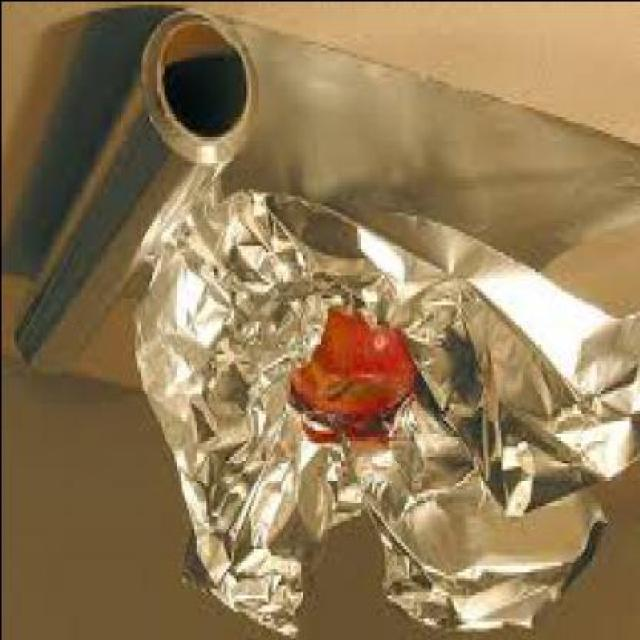BIODEGRADABLE: (285, 313, 417, 422)
METAL: (126, 198, 637, 633), (75, 26, 638, 274), (10, 16, 255, 379)
